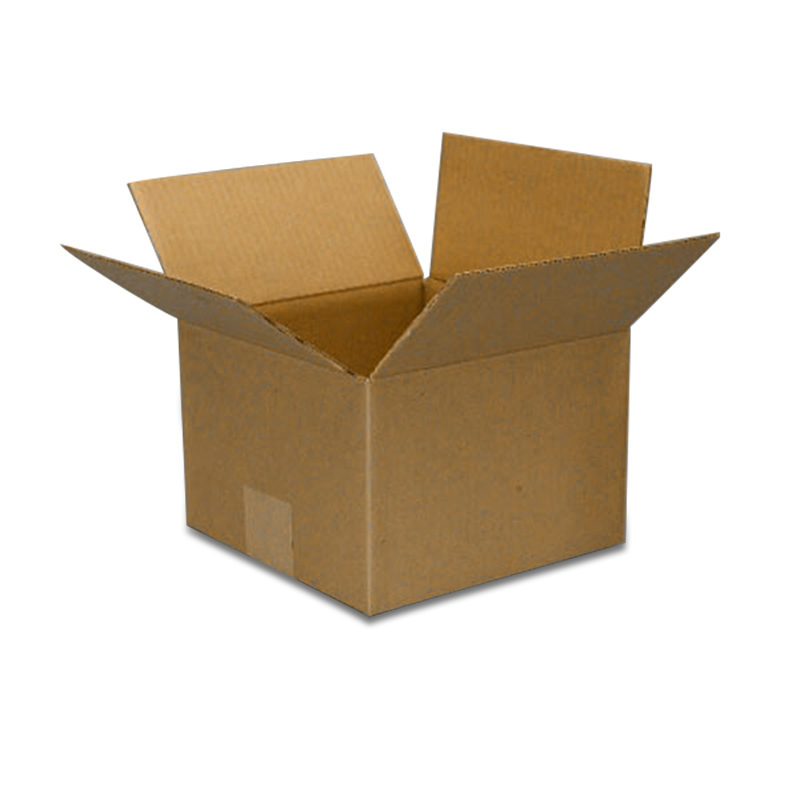Rec_Paper: (52, 109, 723, 640)
